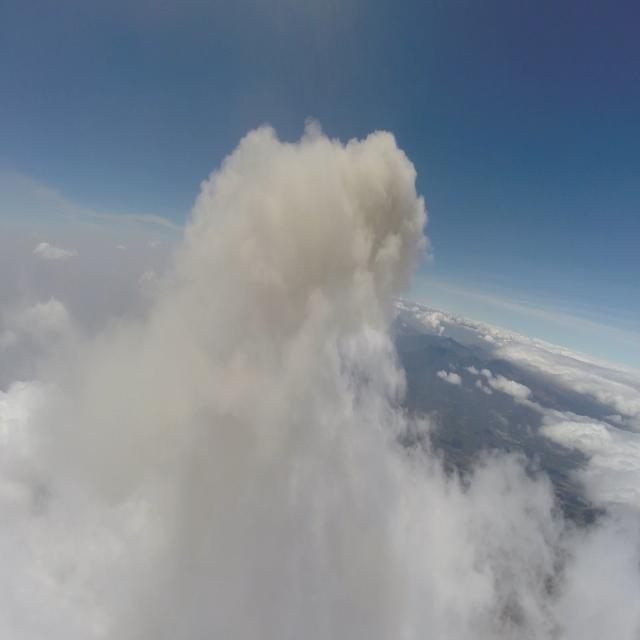Plume: (132, 117, 496, 640)
